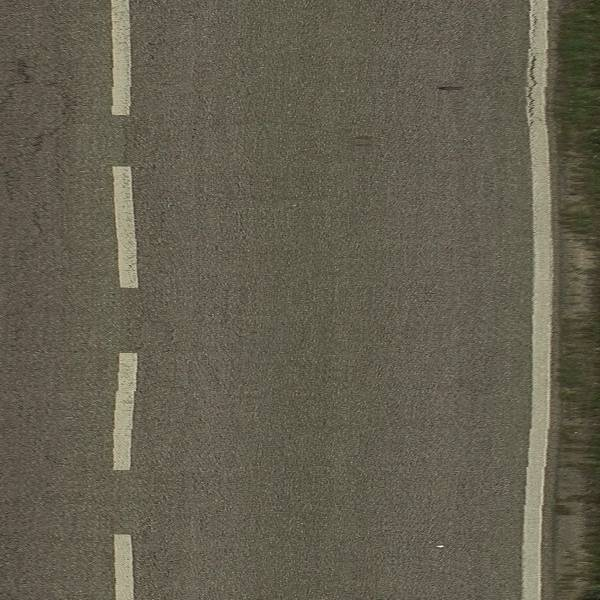road_damage: (1, 40, 85, 260)
